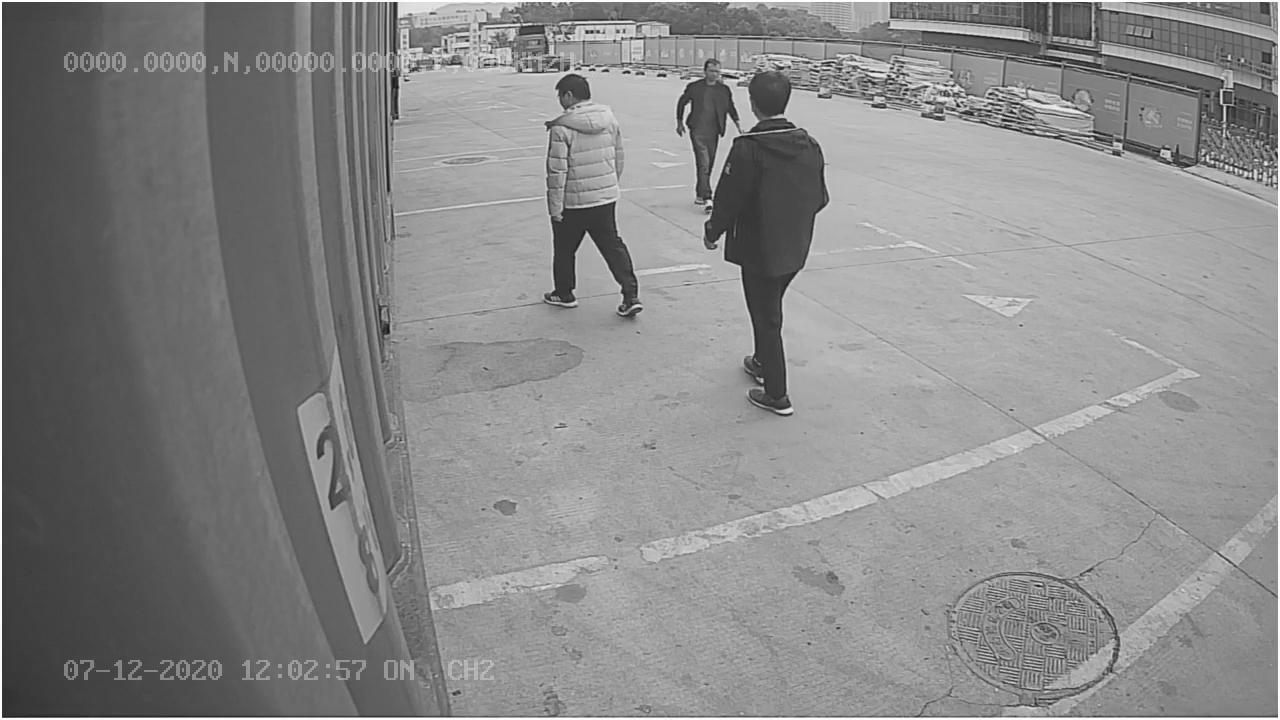person: (529, 67, 645, 320)
